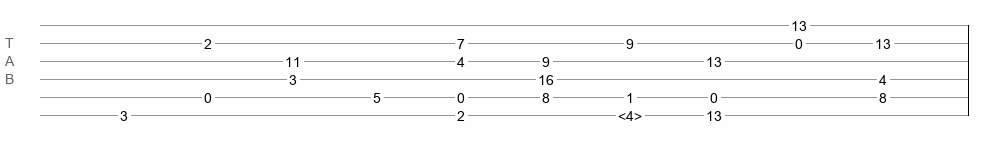0: (204, 90, 212, 100), (457, 90, 465, 100), (710, 90, 718, 100), (795, 36, 803, 46)
1: (626, 90, 634, 100)
11: (285, 54, 301, 64)
13: (706, 108, 722, 118), (706, 54, 722, 64), (791, 18, 807, 28), (875, 36, 891, 46)
16: (538, 72, 554, 82)
2: (204, 36, 212, 46), (457, 108, 465, 118)
3: (120, 108, 128, 118), (289, 72, 297, 82)
4: (457, 54, 465, 64), (879, 72, 887, 82)
5: (373, 90, 381, 100)
7: (457, 36, 465, 46)
8: (542, 90, 550, 100), (879, 90, 887, 100)
9: (542, 54, 550, 64), (626, 36, 634, 46)
harmonic: (618, 108, 642, 118)
